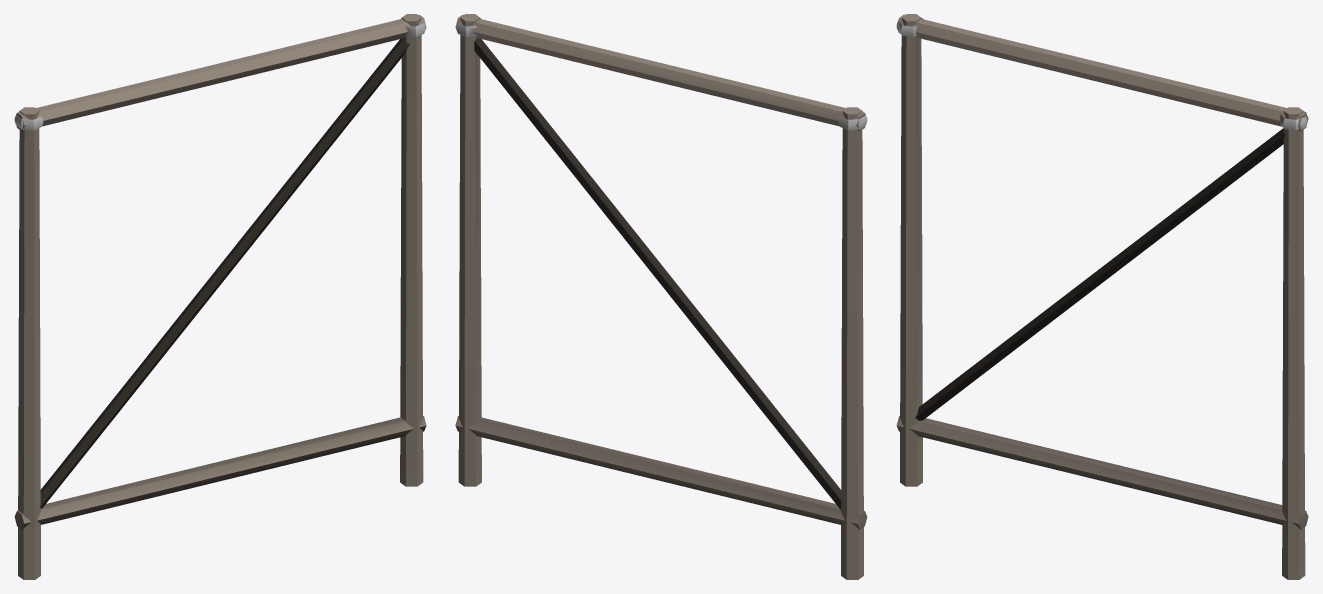
Rendered from muro_ventana_frame.glb.
The picture shows the model from 3 angles, left to right: view 1: azimuth 30°, elevation 25°; view 2: azimuth 150°, elevation 25°; view 3: azimuth 330°, elevation 25°; orthographic projection.
Visible parts, largest first — view 1: muro_ventana_frame; view 2: muro_ventana_frame; view 3: muro_ventana_frame.
Part boxes in pixels (box(x1,y1,x2,y2)): muro_ventana_frame: box(14, 14, 426, 579); muro_ventana_frame: box(455, 14, 867, 579); muro_ventana_frame: box(896, 14, 1308, 579).
Bounding box in the file's own units: 2.43 × 2.65 × 0.1521.
